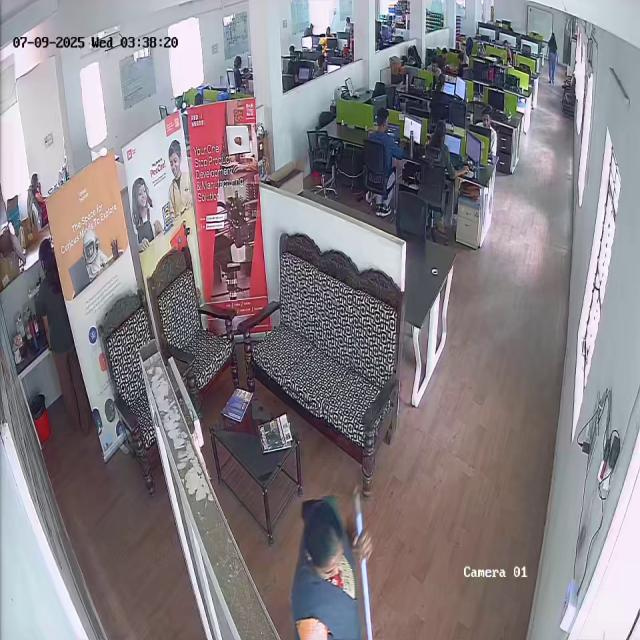person: (285, 493, 374, 640), (24, 236, 79, 438), (362, 108, 400, 216), (428, 120, 462, 234), (28, 172, 51, 220), (544, 31, 560, 87)
